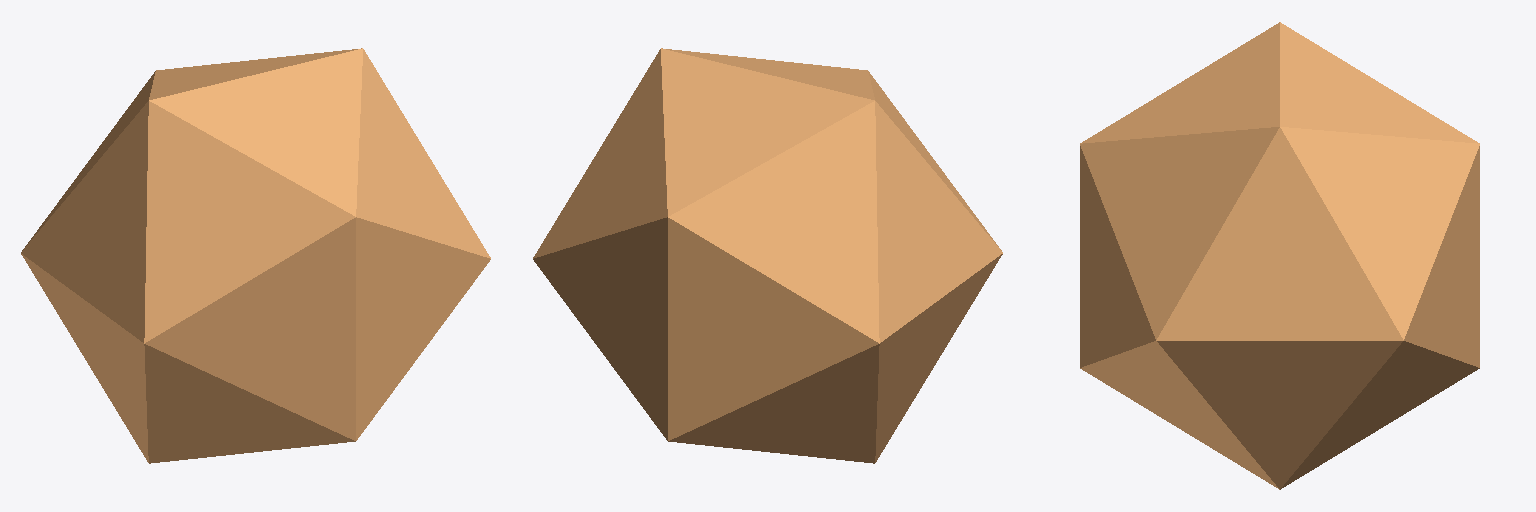
File: starparticle5.obj
3 views of the same model, side by side, from view 1: azimuth 30°, elevation 25°; view 2: azimuth 150°, elevation 25°; view 3: azimuth 270°, elevation 25° (orthographic).
Parts seen in each view (by area): view 1: Platonic; view 2: Platonic; view 3: Platonic.
Part boxes in pixels (bbox=[...]): Platonic: bbox=[21, 48, 490, 463]; Platonic: bbox=[533, 48, 1002, 463]; Platonic: bbox=[1080, 22, 1479, 489].
Size of the model in its own units: 27.15 by 27.15 by 27.15.